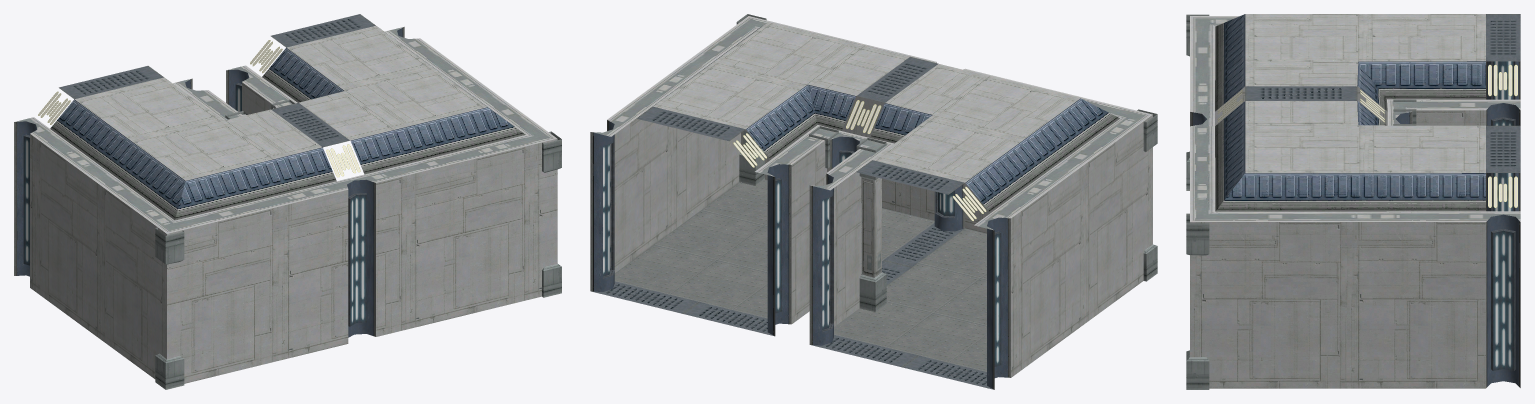
The model's file is ply_tato_cloning_facility_s01_r2_hallcurve_mesh_r2.fbx.
3 views of the same model, side by side, from view 1: azimuth 30°, elevation 25°; view 2: azimuth 150°, elevation 25°; view 3: azimuth 270°, elevation 25° (orthographic). The views are drawn at different scales.
Parts seen in each view (by area): view 1: mesh_node; view 2: mesh_node; view 3: mesh_node.
Part boxes in pixels (<box>): mesh_node: <box>14,14,561,389</box>; mesh_node: <box>590,14,1157,389</box>; mesh_node: <box>1186,14,1520,389</box>.
Bounding box in the file's own units: 9.98 × 4.28 × 6.75.
